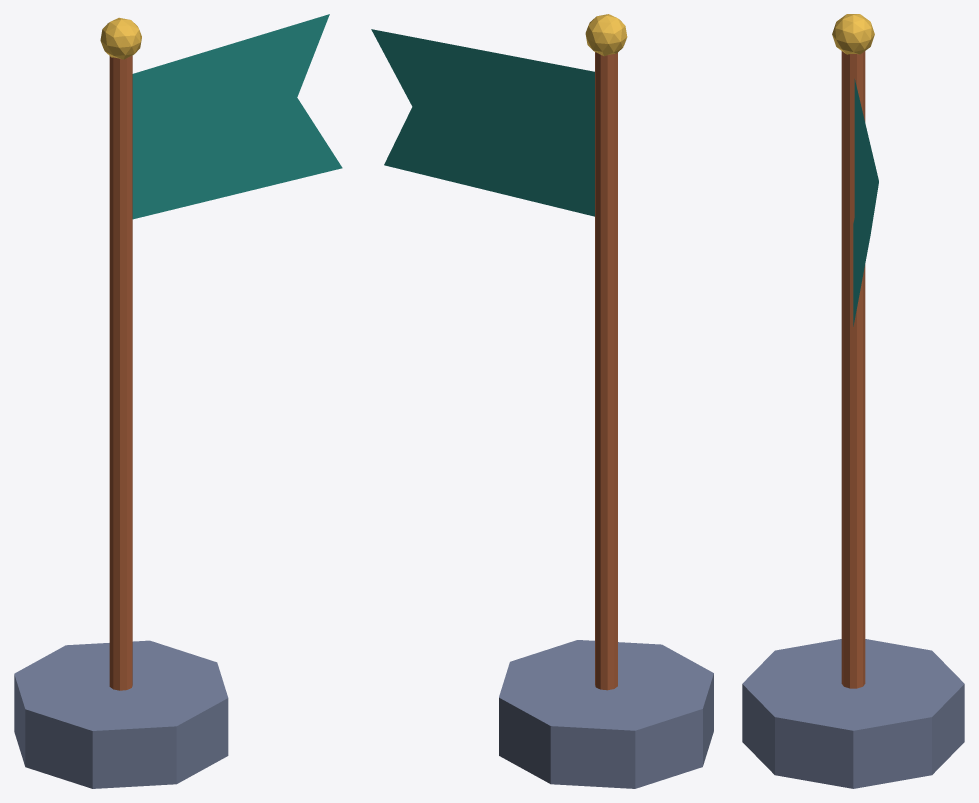
The model's file is capture-standard.glb.
3 renders of one model, left to right at view 1: azimuth 30°, elevation 25°; view 2: azimuth 150°, elevation 25°; view 3: azimuth 270°, elevation 25°, orthographic.
Parts seen in each view (by area): view 1: Faction pennant, Capture base, Standard pole, Flag finial; view 2: Faction pennant, Capture base, Standard pole, Flag finial; view 3: Capture base, Standard pole, Faction pennant, Flag finial.
Part boxes in pixels (bbox=[...]): Faction pennant: bbox=[132, 14, 342, 219]; Capture base: bbox=[14, 640, 228, 788]; Standard pole: bbox=[109, 55, 132, 690]; Flag finial: bbox=[100, 17, 141, 59]; Faction pennant: bbox=[371, 29, 594, 216]; Capture base: bbox=[499, 640, 713, 788]; Standard pole: bbox=[595, 52, 617, 690]; Flag finial: bbox=[585, 14, 627, 56]; Capture base: bbox=[742, 639, 964, 788]; Standard pole: bbox=[841, 51, 865, 688]; Faction pennant: bbox=[853, 79, 878, 326]; Flag finial: bbox=[832, 14, 874, 54].
Bounding box in the file's own units: 1.72 × 3.75 × 1.04.
